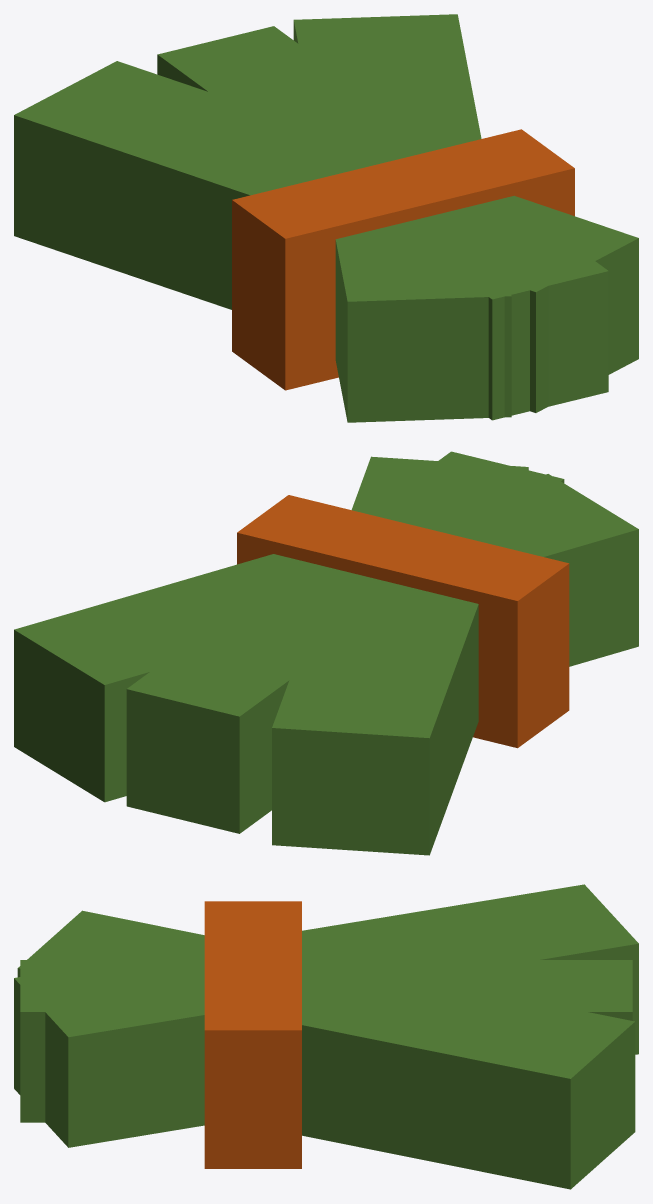
The model's file is Item.FBX.
The picture shows the model from 3 angles, top to bottom: view 1: azimuth 30°, elevation 25°; view 2: azimuth 150°, elevation 25°; view 3: azimuth 270°, elevation 25°; orthographic projection. The views are drawn at different scales.
Visible parts, largest first — view 1: Box002, Box003, Box004, Box001; view 2: Box003, Box002, Box001, Box004; view 3: Box003, Box002, Box004, Box001.
Boxes of the visible parts, x1,y1,x2,y2 form: Box002: [14, 61, 638, 412]; Box003: [293, 14, 511, 422]; Box004: [232, 129, 574, 390]; Box001: [157, 26, 608, 420]; Box003: [14, 474, 638, 802]; Box002: [272, 456, 528, 855]; Box001: [126, 451, 564, 833]; Box004: [237, 495, 569, 748]; Box003: [17, 910, 635, 1189]; Box002: [14, 884, 638, 1147]; Box004: [204, 901, 301, 1168]; Box001: [20, 960, 632, 1122].
Size of the model in its own units: 1.05 by 0.3488 by 1.42.
2 materials, 2 textured.
